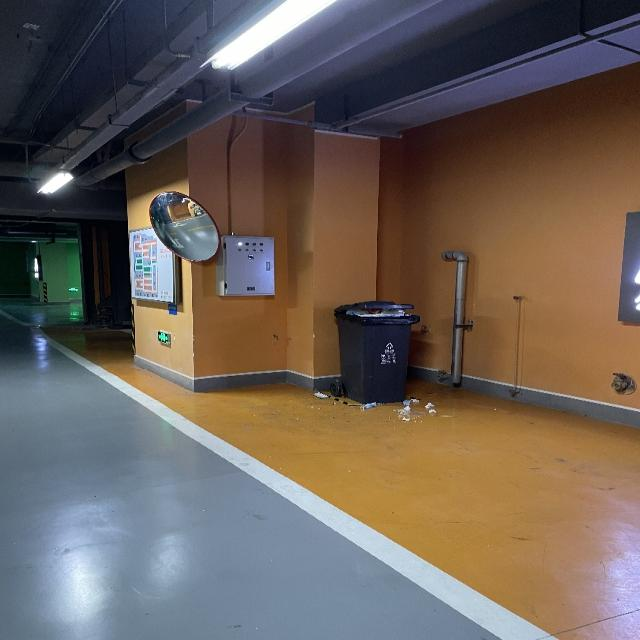garbage: (310, 391, 435, 422)
overflow: (335, 300, 420, 403)
